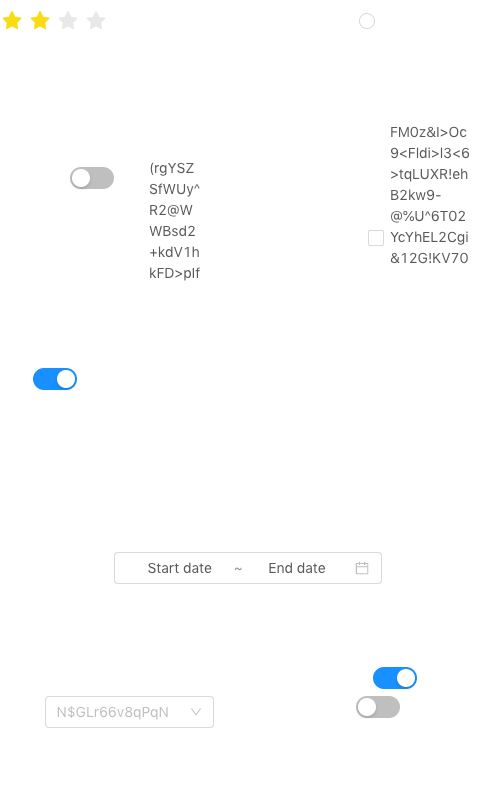Checkbox: (368, 227, 384, 248)
Radio: (359, 10, 375, 30)
RangePicker: (114, 552, 382, 584)
Rate: (2, 4, 122, 36)
Select: (45, 696, 214, 728)
Switch: (373, 666, 417, 690), (33, 367, 77, 391), (70, 166, 114, 190), (356, 695, 400, 719)
Text: (390, 121, 472, 264), (149, 157, 203, 285)
